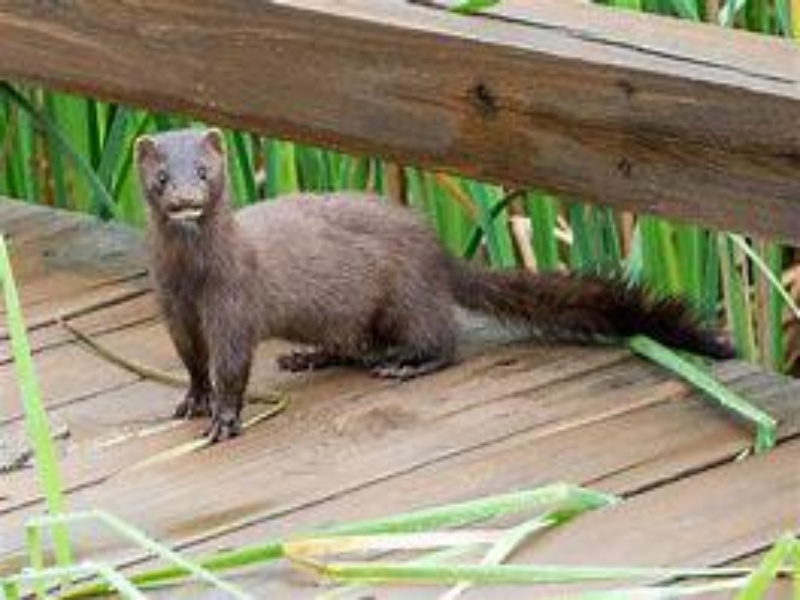minkish: (132, 122, 744, 439)
